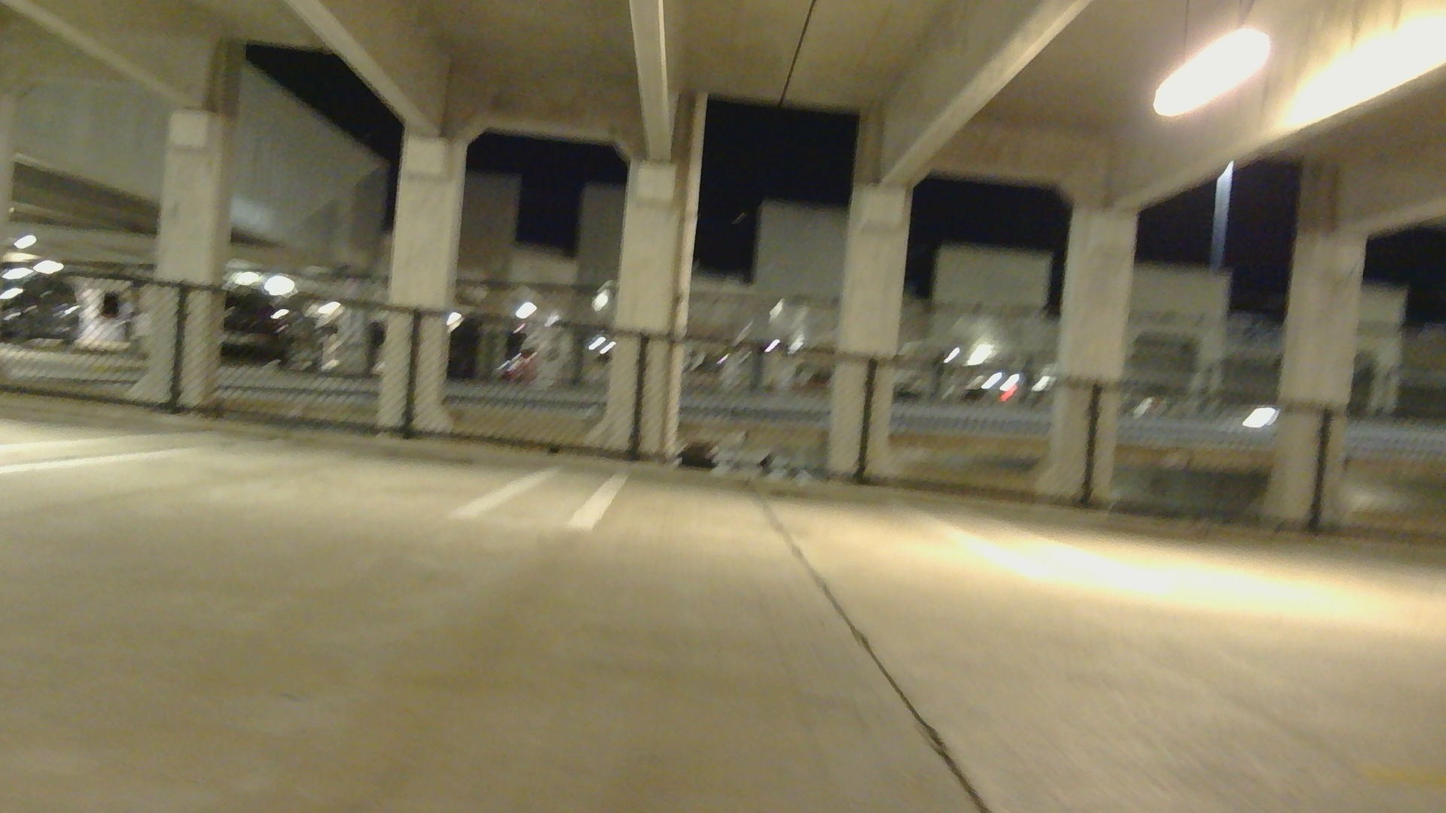empty_spot: (0, 329, 582, 533), (564, 396, 1082, 581)
